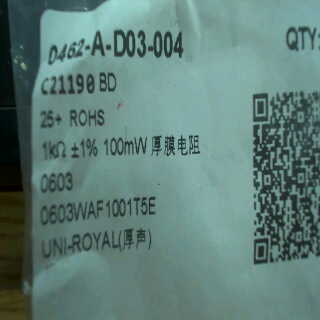1kR: (36, 132, 69, 162)
